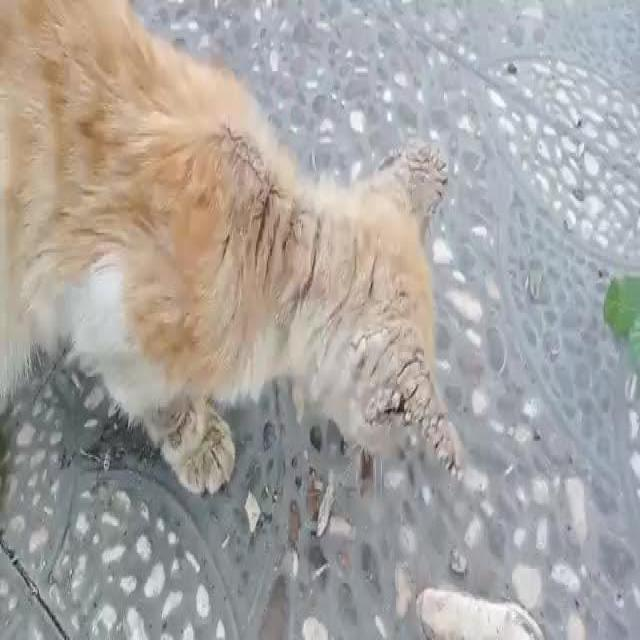ghe: (354, 314, 459, 479), (224, 171, 328, 317), (374, 144, 450, 230)
